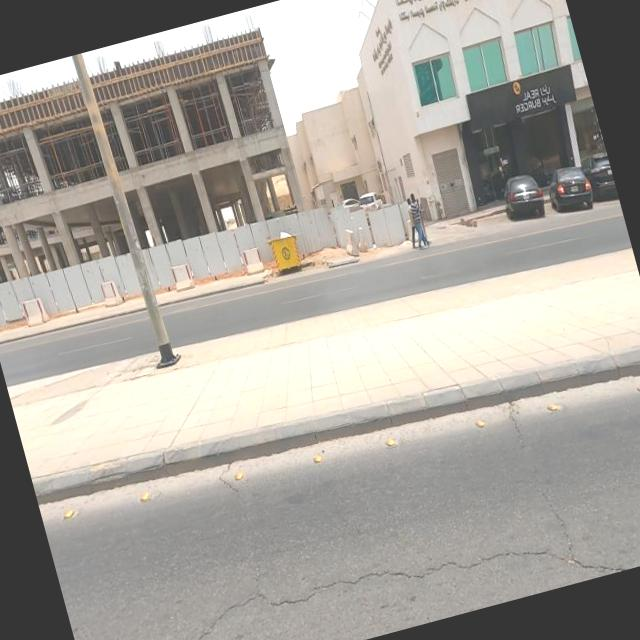debris: (257, 202, 315, 258)
